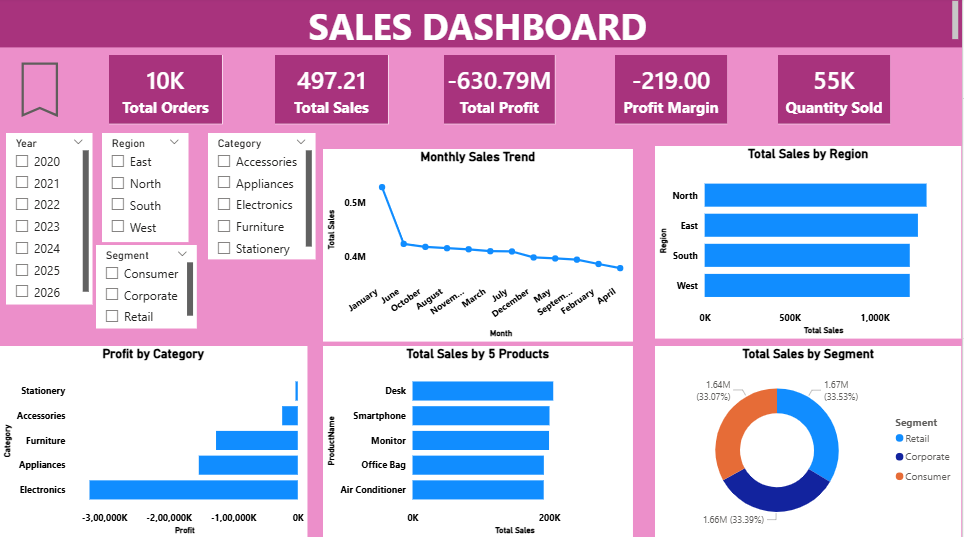

This screenshot's page, from the dashboard's own definition file:
{"tool":"powerbi","page":{"name":"Page 1","canvas":[1280,720],"ordinal":0},"visuals":[{"type":"cardVisual","fields":{"Data":["CountNonNull(Sales data.OrderID)"]},"box":[146.6,77.2,150.5,91.6],"z":0},{"type":"cardVisual","fields":{"Data":["Avg(Sales data.TotalSale)"]},"box":[366.5,77.2,150.5,91.6],"z":1000},{"type":"cardVisual","fields":{"Data":["Sum(Sales data.Profit)"]},"box":[591.7,77.2,147.9,91.6],"z":2000},{"type":"cardVisual","fields":{"Data":["Avg(Sales data.Profit Margin)"]},"box":[818.2,77.2,149.2,91.6],"z":3000},{"type":"cardVisual","fields":{"Data":["Sum(Sales data.Quantity)"]},"box":[1035.5,77.2,149.2,91.6],"z":4000},{"type":"lineChart","title":"Monthly Sales Trend","fields":{"Category":["DateTable.Month"],"Y":["Sum(Sales data.TotalSale)"]},"box":[430.8,202.3,411.5,256],"z":5000},{"type":"clusteredBarChart","fields":{"Category":["Products_details.Category"],"Y":["Sum(Sales data.Profit)"]},"box":[0,463.8,410.2,256],"z":6000},{"type":"barChart","fields":{"Category":["Customers_details.Region"],"Y":["Sum(Sales data.TotalSale)"]},"box":[872.6,198.2,407.4,256],"z":7000},{"type":"clusteredBarChart","title":"Total Sales by 5 Products","fields":{"Category":["Products_details.ProductName"],"Y":["Sum(Sales data.TotalSale)"]},"box":[430.8,463.8,411.5,256],"z":8000},{"type":"donutChart","fields":{"Category":["Customers_details.Segment"],"Y":["Sum(Sales data.TotalSale)"]},"box":[872.6,463.8,407.4,256],"z":9000},{"type":"slicer","fields":{"Values":["DateTable.Year"]},"box":[9.2,180.7,115.2,227.8],"z":9001},{"type":"slicer","fields":{"Values":["Customers_details.Region"]},"box":[137.5,180.7,115.2,145.3],"z":9002},{"type":"slicer","fields":{"Values":["Products_details.Category"]},"box":[277.5,180.7,142.7,167.6],"z":9003},{"type":"slicer","fields":{"Values":["Customers_details.Segment"]},"box":[128.3,329.9,133.5,111.3],"z":9004},{"type":"textbox","box":[0,0,1280,67.4],"z":9005},{"type":"actionButton","box":[9.2,77.2,90.3,91.6],"z":9006}]}

Visuals, with their boxes in screenshot pixels (x1, y1, x2, y2), scaled from the page's 1280x720 canvas onto the 964x537 screenshot:
cardVisual - CountNonNull(Sales data.OrderID): [110, 58, 224, 126]
cardVisual - Avg(Sales data.TotalSale): [276, 58, 389, 126]
cardVisual - Sum(Sales data.Profit): [446, 58, 557, 126]
cardVisual - Avg(Sales data.Profit Margin): [616, 58, 729, 126]
cardVisual - Sum(Sales data.Quantity): [780, 58, 892, 126]
"Monthly Sales Trend" lineChart: [324, 151, 634, 342]
clusteredBarChart - Products_details.Category x Sum(Sales data.Profit): [0, 346, 309, 536]
barChart - Customers_details.Region x Sum(Sales data.TotalSale): [657, 148, 963, 339]
"Total Sales by 5 Products" clusteredBarChart: [324, 346, 634, 536]
donutChart - Customers_details.Segment x Sum(Sales data.TotalSale): [657, 346, 963, 536]
slicer - DateTable.Year: [7, 135, 94, 305]
slicer - Customers_details.Region: [104, 135, 190, 243]
slicer - Products_details.Category: [209, 135, 316, 260]
slicer - Customers_details.Segment: [97, 246, 197, 329]
textbox: [0, 0, 963, 50]
actionButton: [7, 58, 75, 126]
